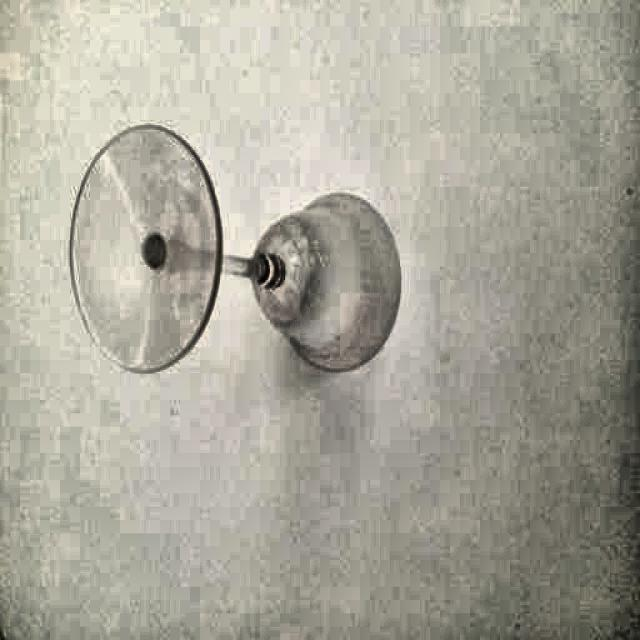glass: (67, 126, 407, 375)
